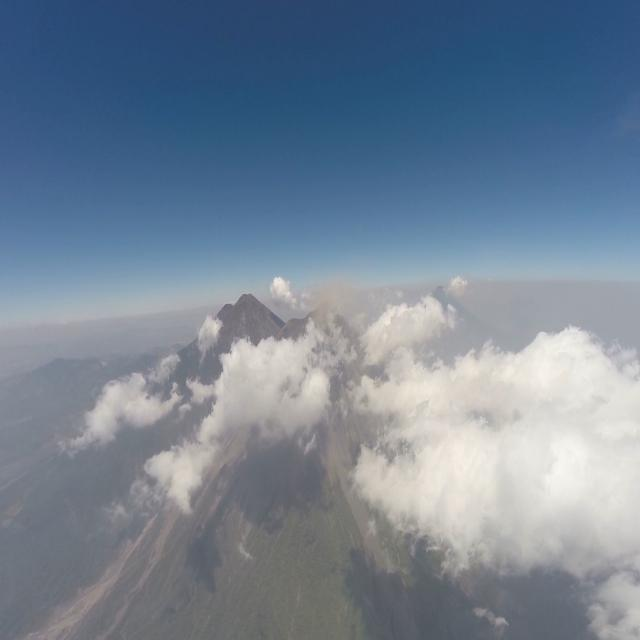Summit: (307, 298, 342, 316)
